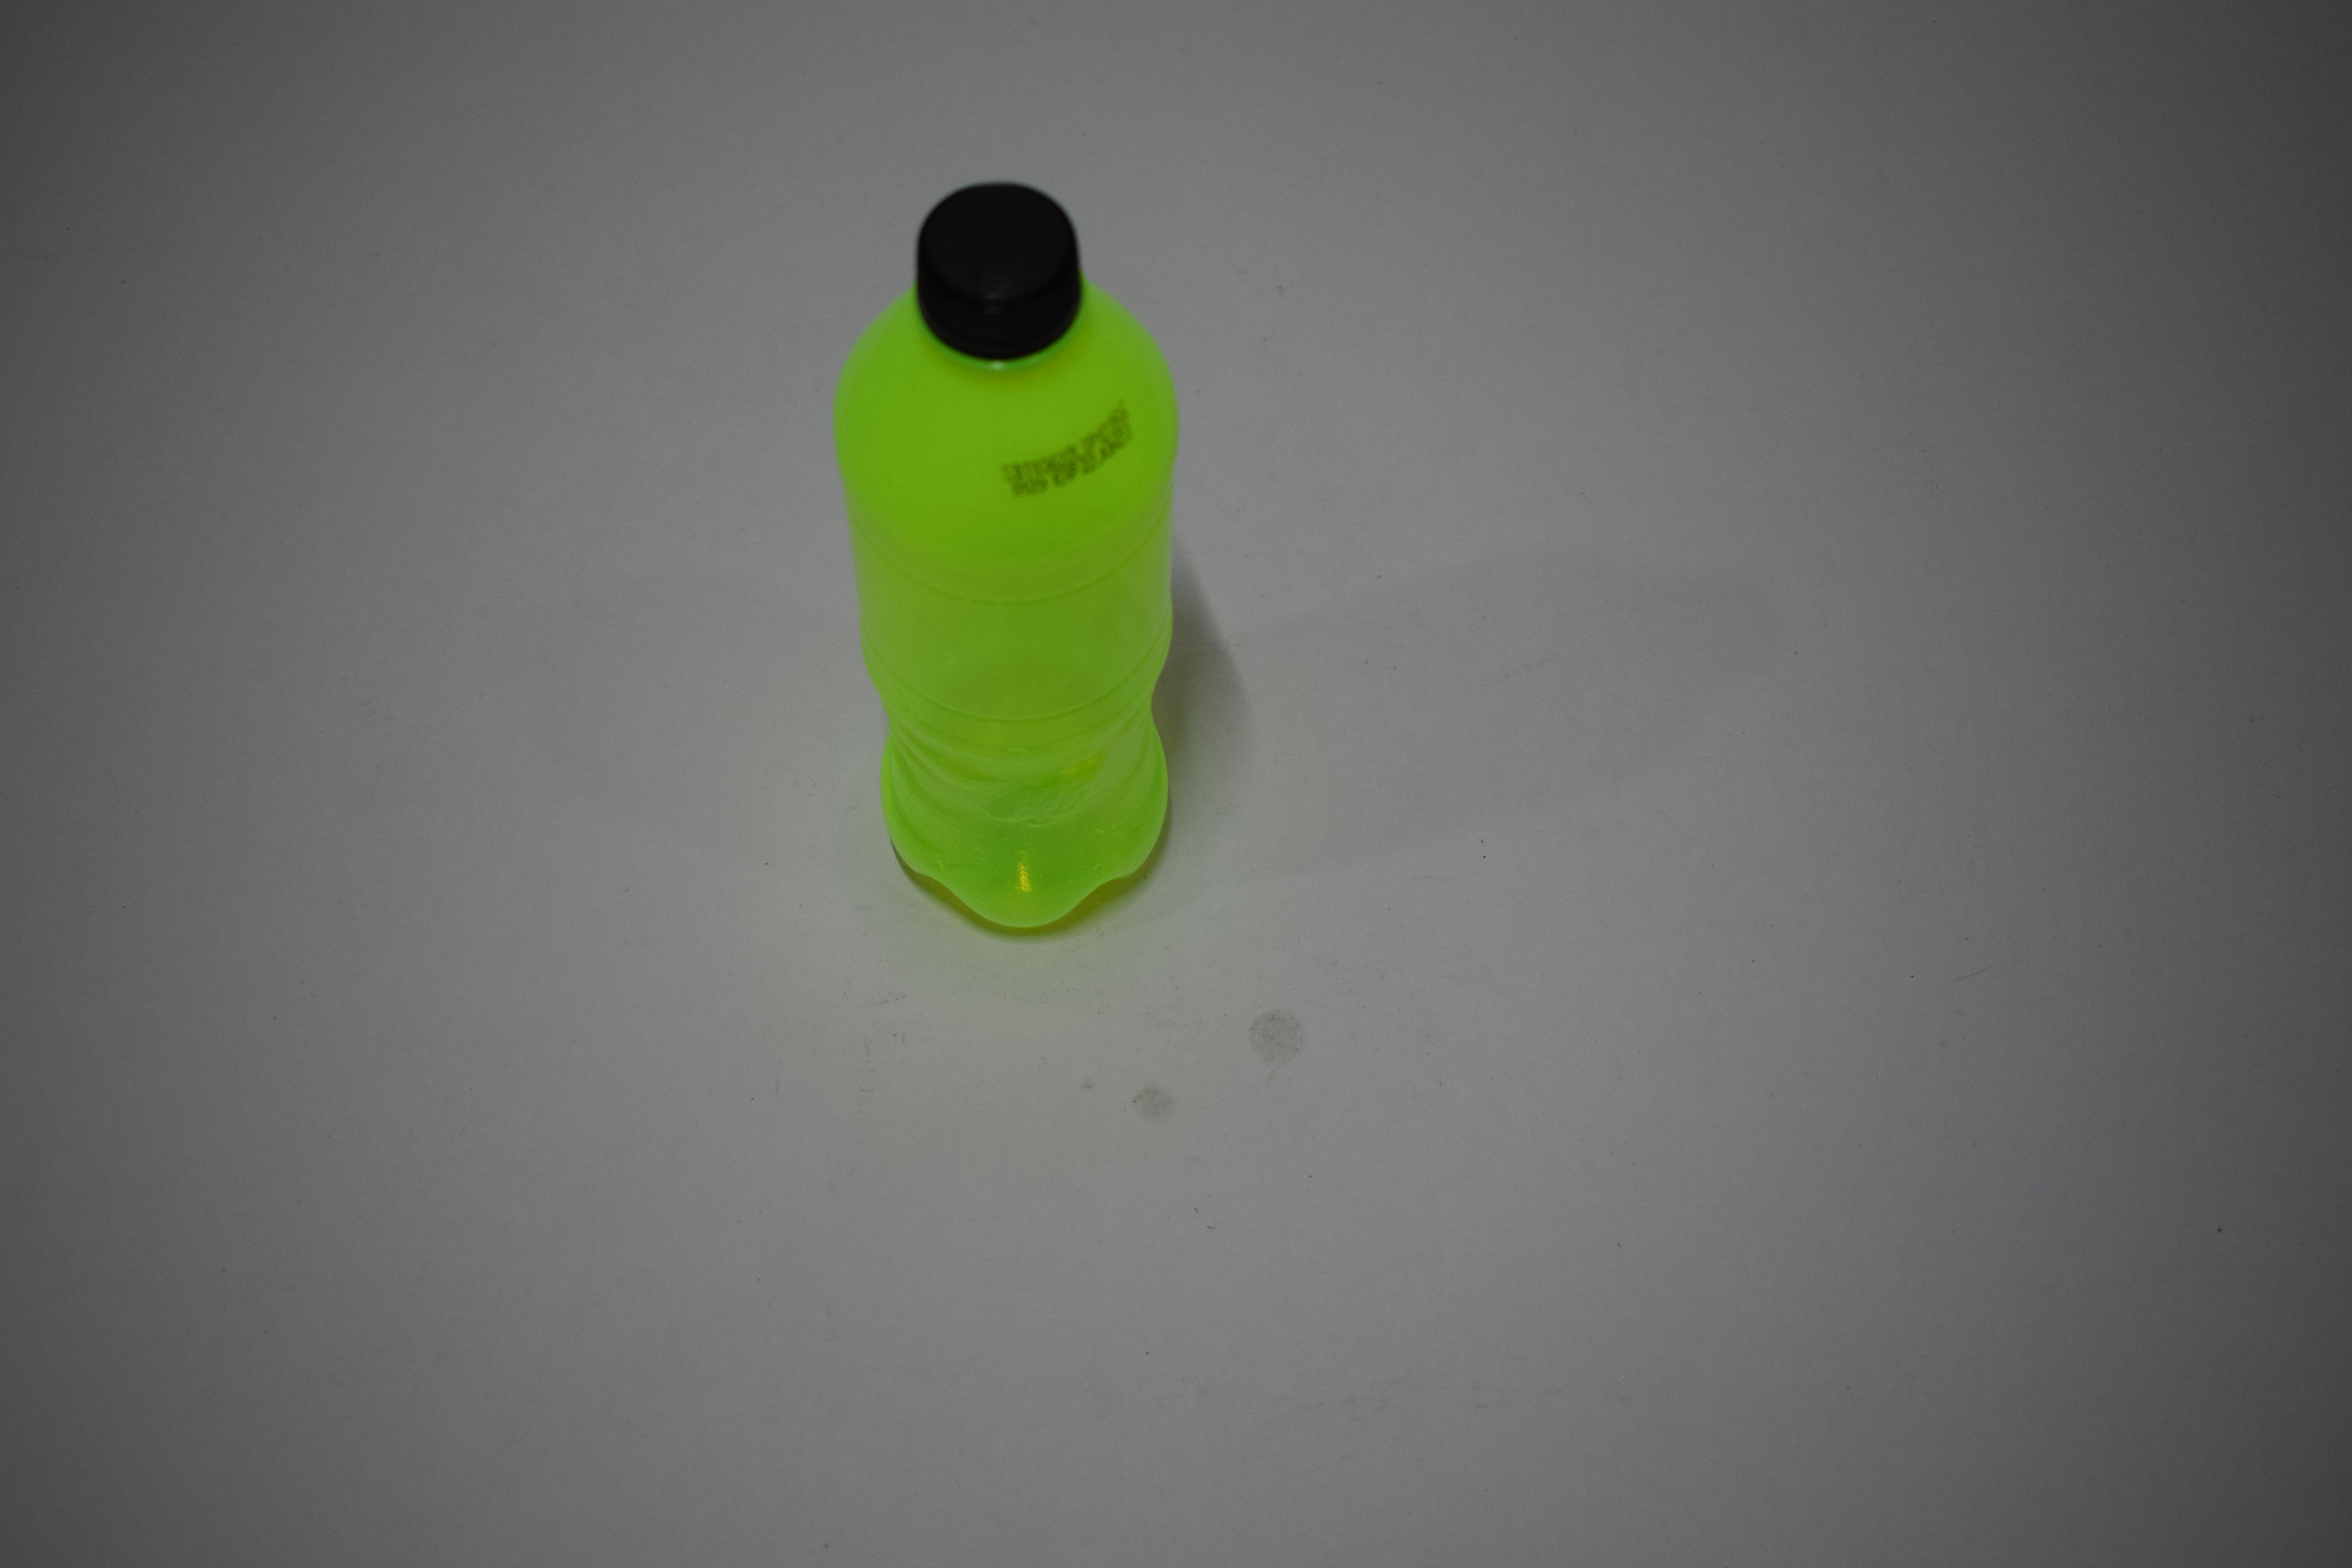bottle: (889, 95, 1129, 847)
